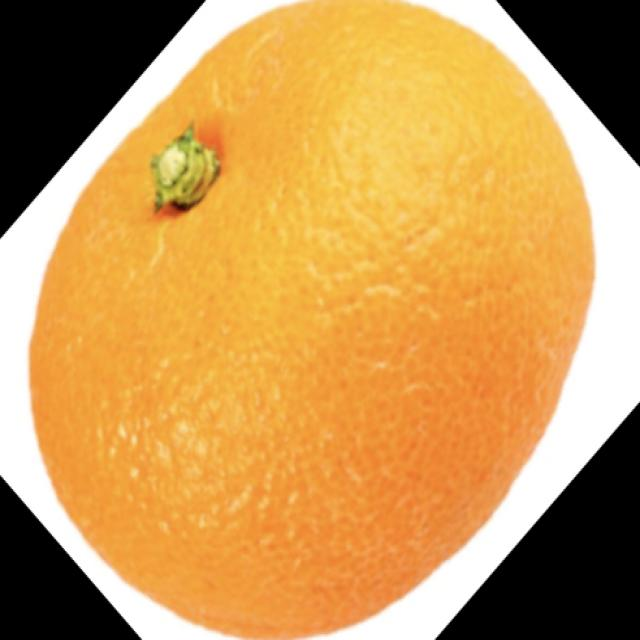fresh: (29, 6, 604, 639)
